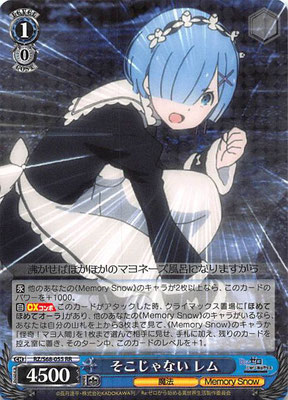rem: (2, 9, 246, 283)
